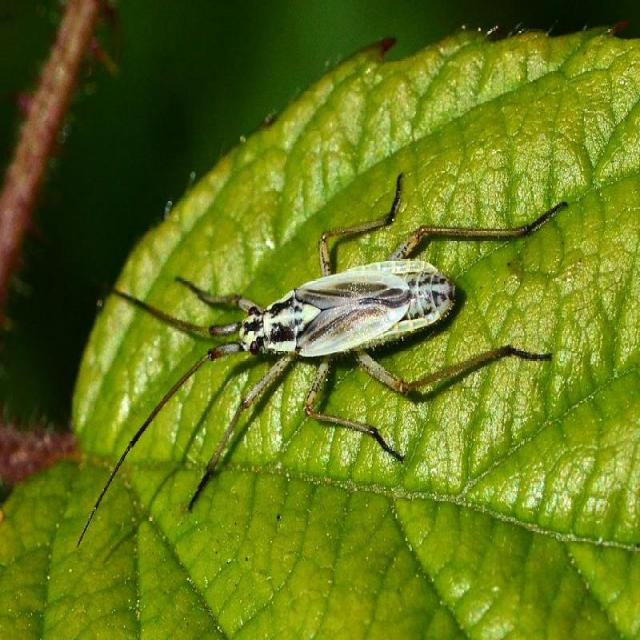Miridae-Adult-: (96, 197, 526, 470)
